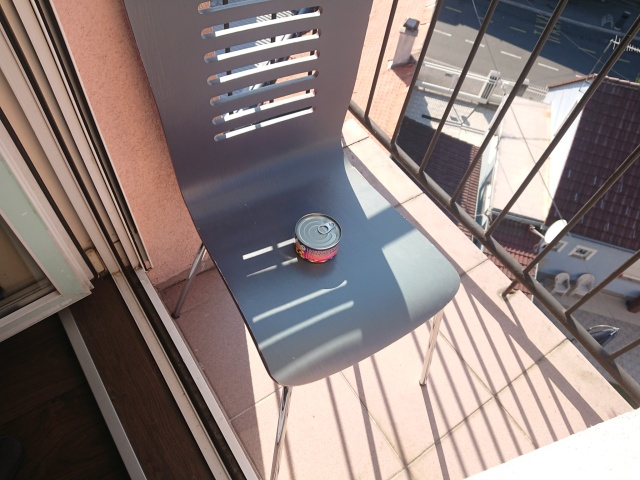Giana Tuna Salad Mexico 185g: (292, 209, 344, 266)
